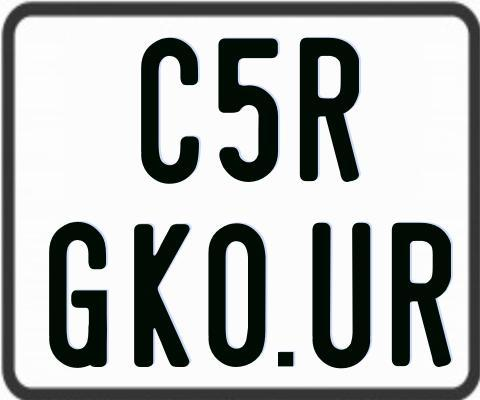0: (207, 220, 268, 364)
5: (215, 38, 279, 182)
C: (138, 35, 199, 182)
G: (46, 220, 108, 372)
K: (133, 223, 193, 369)
R: (297, 35, 357, 184), (392, 221, 452, 366)
U: (311, 221, 374, 370)
